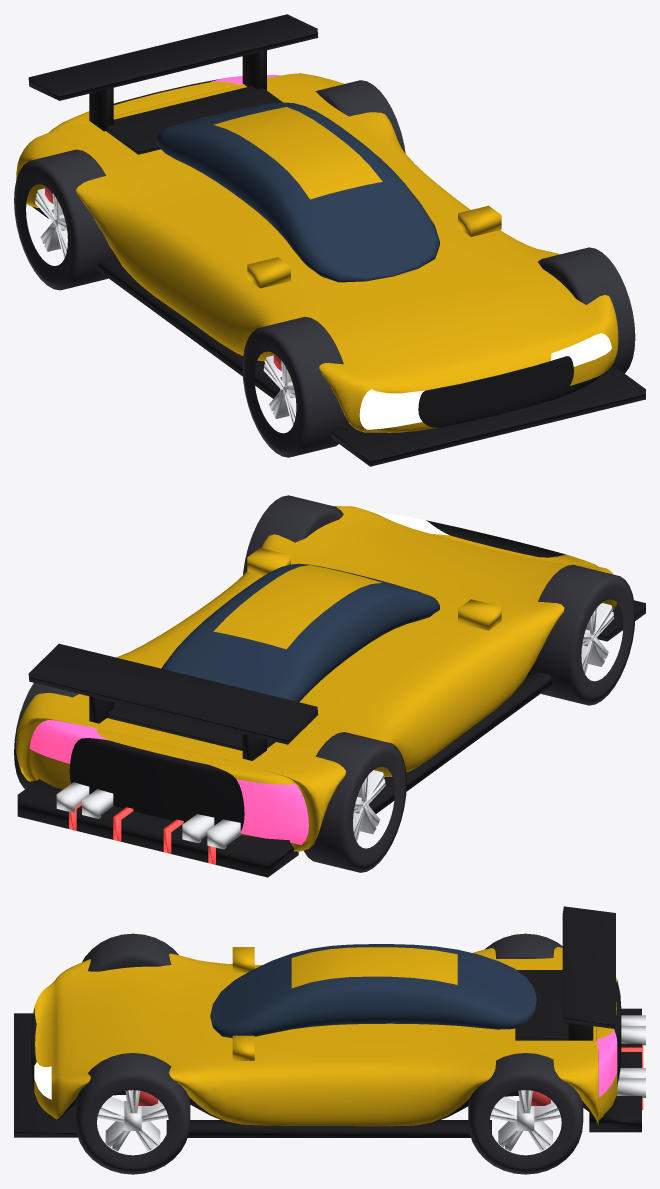
File: pahari_911r.glb
The picture shows the model from 3 angles, top to bottom: view 1: azimuth 30°, elevation 25°; view 2: azimuth 150°, elevation 25°; view 3: azimuth 270°, elevation 25°; orthographic projection. The views are drawn at different scales.
Visible parts, largest first — view 1: Chassis, Wheel_FR, Wheel_RR, Wheel_FL, Wheel_RL; view 2: Chassis, Wheel_FR, Wheel_RR, Wheel_FL, Wheel_RL; view 3: Chassis, Wheel_FL, Wheel_RL, Wheel_FR, Wheel_RR.
Boxes of the visible parts, x1,y1,x2,y2 form: Chassis: (16,14,645,466); Wheel_FR: (242,317,349,457); Wheel_RR: (14,149,115,290); Wheel_FL: (538,247,635,373); Wheel_RL: (315,80,405,153); Chassis: (16,506,645,877); Wheel_FR: (530,564,635,705); Wheel_RR: (304,732,406,872); Wheel_FL: (243,495,343,574); Wheel_RL: (14,683,78,788); Chassis: (14,906,645,1137); Wheel_FL: (75,1053,190,1174); Wheel_RL: (468,1053,583,1174); Wheel_FR: (82,933,178,971); Wheel_RR: (484,933,562,958).
Size of the model in its own units: 2.38 by 1.16 by 4.57.
